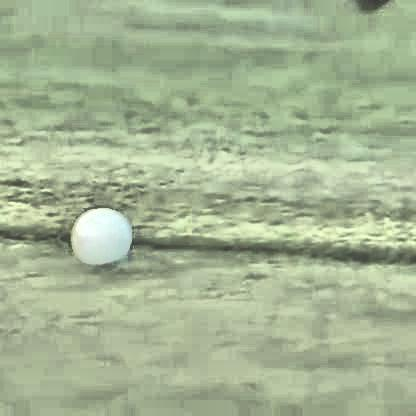golfball: (67, 206, 130, 268)
